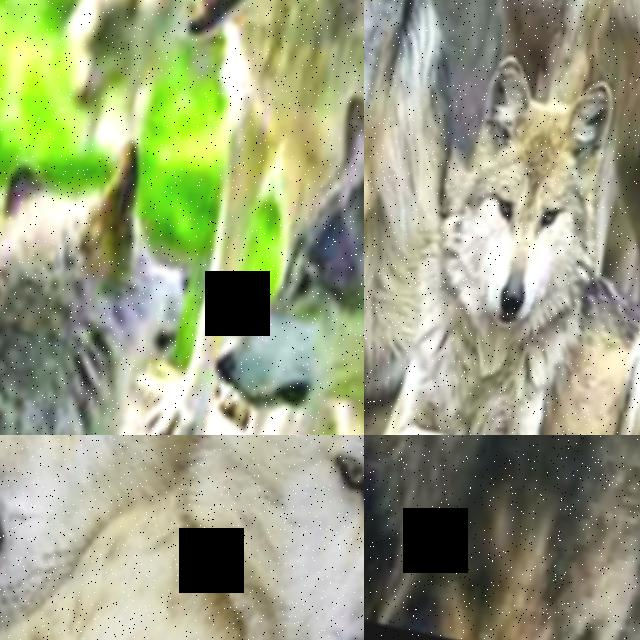wolf: (0, 48, 358, 435), (377, 2, 640, 435), (146, 0, 364, 435), (0, 435, 364, 640), (364, 0, 525, 435), (0, 435, 286, 640), (364, 435, 640, 640), (103, 0, 364, 180), (432, 0, 640, 151)
